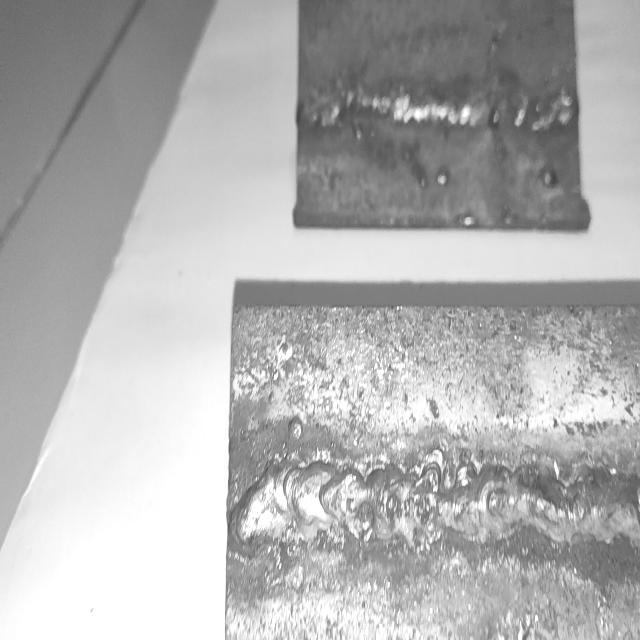Defect: (476, 73, 572, 136), (299, 89, 397, 130)
Welding Line: (238, 451, 634, 555), (302, 80, 577, 132)
Workpiece: (225, 286, 640, 640), (292, 0, 585, 234)
